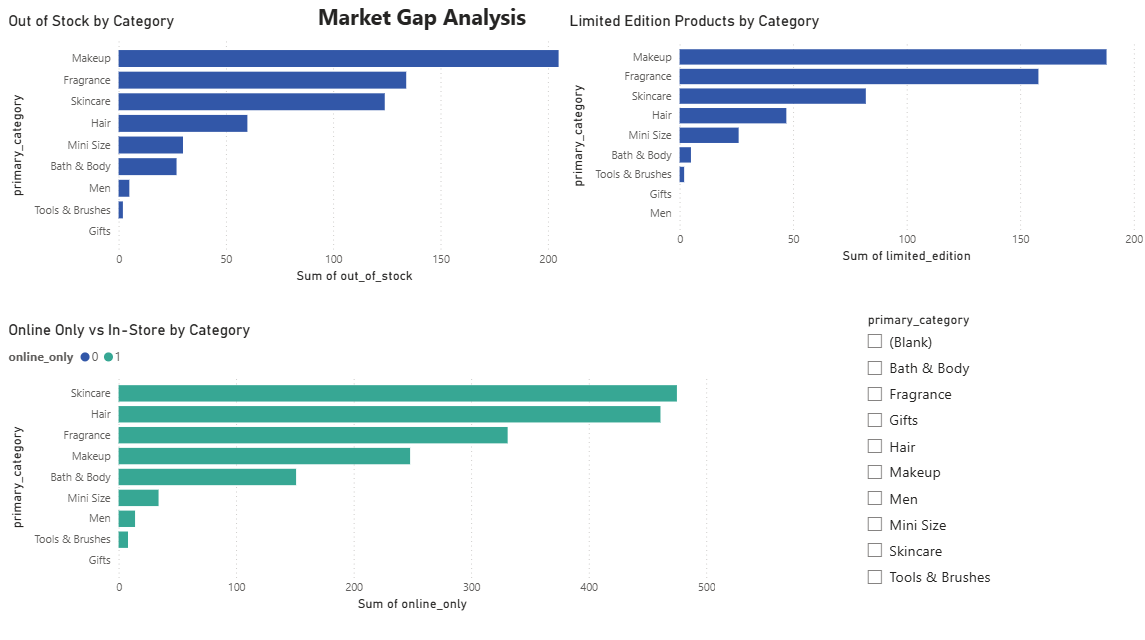

The dashboard page shown, as its layout file describes it:
{"tool":"powerbi","page":{"name":"Market Gaps","canvas":[1280,720],"ordinal":2},"visuals":[{"type":"clusteredBarChart","title":"Out of Stock by Category","fields":{"Y":["Sum(clean_products.out_of_stock)"],"Category":["clean_products.primary_category"]},"box":[10,16.7,666.7,305],"z":0},{"type":"barChart","title":"Online Only vs In-Store by Category","fields":{"Category":["clean_products.primary_category"],"Y":["Sum(clean_products.online_only)"],"Series":["clean_products.online_only"]},"box":[10,360,795,326.7],"z":1000},{"type":"clusteredBarChart","title":"Limited Edition Products by Category","fields":{"Y":["Sum(clean_products.limited_edition)"],"Category":["clean_products.primary_category"]},"box":[633.3,16.7,646.7,283.3],"z":2000},{"type":"slicer","fields":{"Values":["clean_products.primary_category"]},"box":[956.7,345,231.7,326.7],"z":3000},{"type":"textbox","box":[343.3,0,261.7,58.3],"z":3001}]}

Visuals, with their boxes in screenshot pixels (x1, y1, x2, y2), scaled from the page's 1280x720 canvas onto the 1145x640 screenshot:
"Out of Stock by Category" clusteredBarChart: [9, 15, 605, 286]
"Online Only vs In-Store by Category" barChart: [9, 320, 720, 610]
"Limited Edition Products by Category" clusteredBarChart: [567, 15, 1144, 267]
slicer - clean_products.primary_category: [856, 307, 1063, 597]
textbox: [307, 0, 541, 52]
